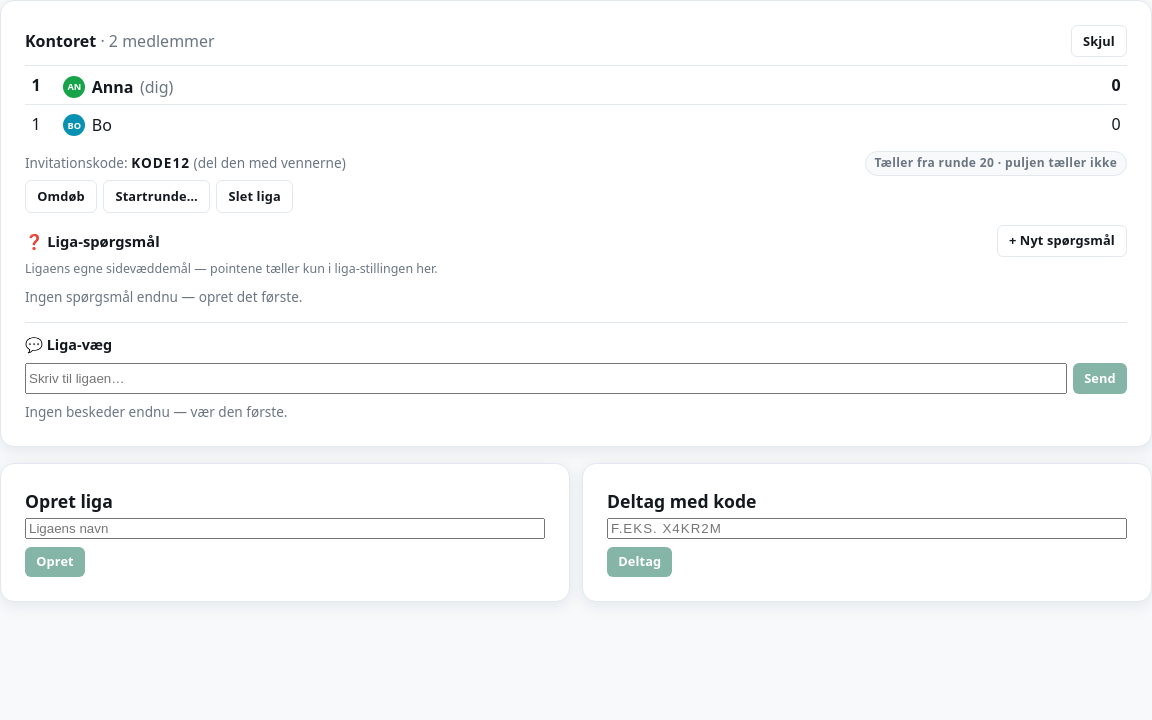
Scenario: liga-kortet › forklarer konsekvensen VED valget
What coordinates should you click on to do the following:
click the button "Startrunde…"
I would click on:
 (157, 196)
Its box is [103, 180, 210, 213].
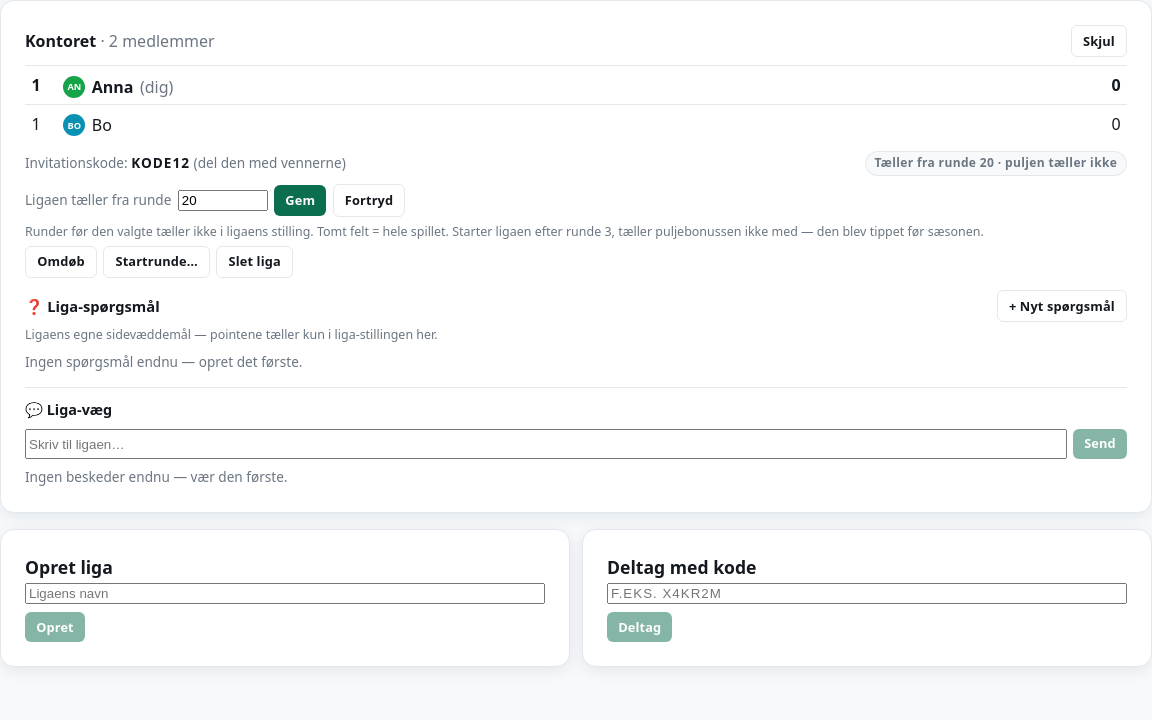
Check: the text "Runder før den valgte tæller ikke i ligaens stilling" is shown, box [25, 223, 1127, 242]
Check: the text "tæller puljebonussen ikke med" is shown, box [612, 223, 928, 240]
Check: the text "tæller puljebonussen ikke med — den blev tippet før sæsonen." is shown, box [25, 223, 1127, 242]
